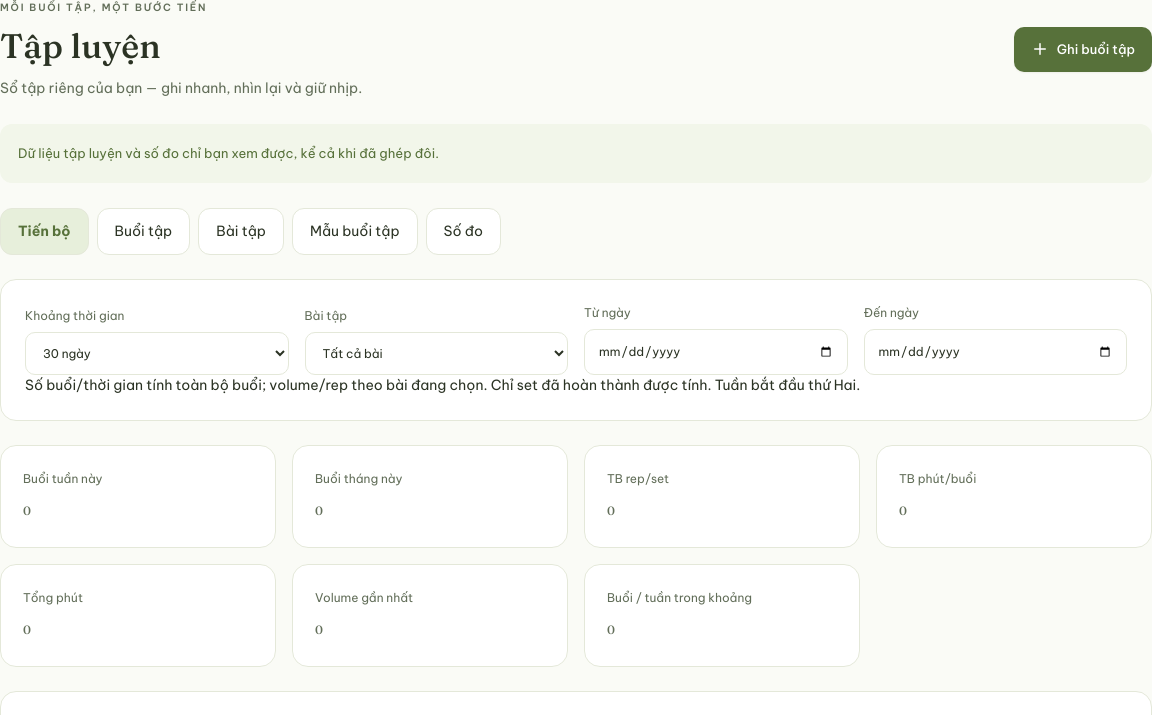
Test case: analytics shows actual bucket counts/goal and exercise filter queries a single exercise
Select "Bench Press" in the dropdown named "Lọc bài tập" at [436, 353], box x1=304 y1=332 x2=568 y2=375
(page scrolled)
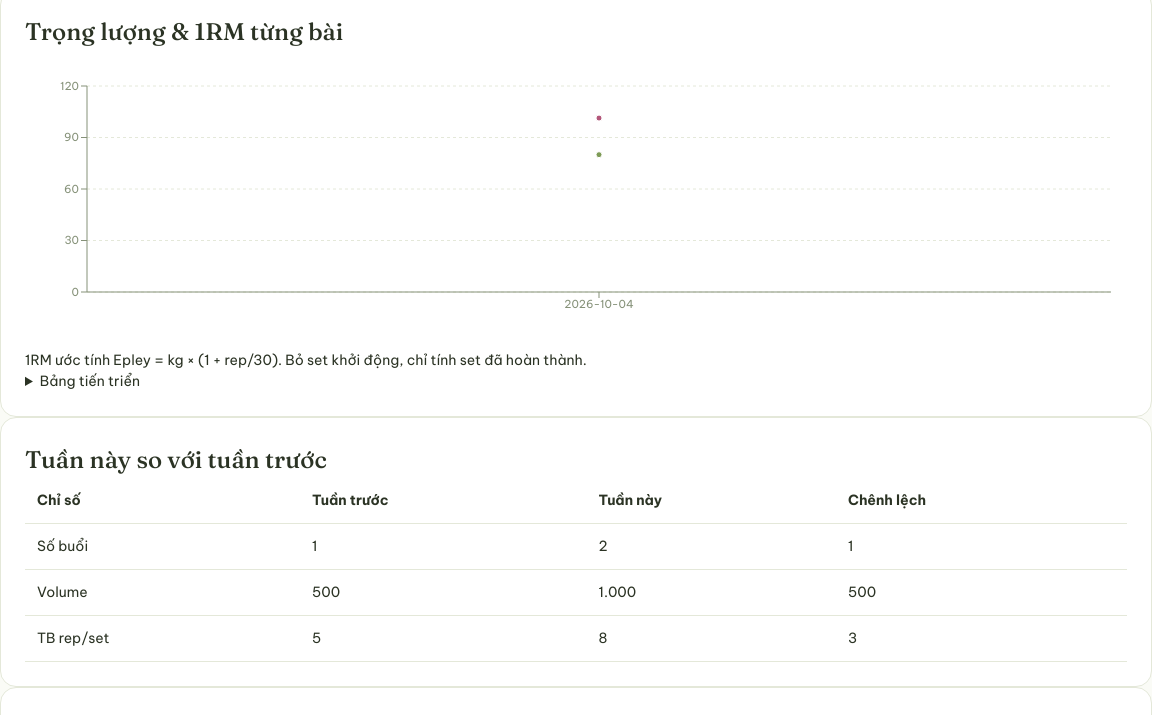
Now the text "1RM ước tính Epley" is shown, box x1=25 y1=351 x2=587 y2=369
